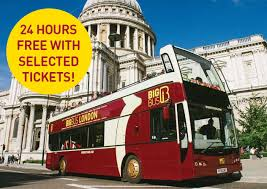bus: (43, 45, 244, 184)
